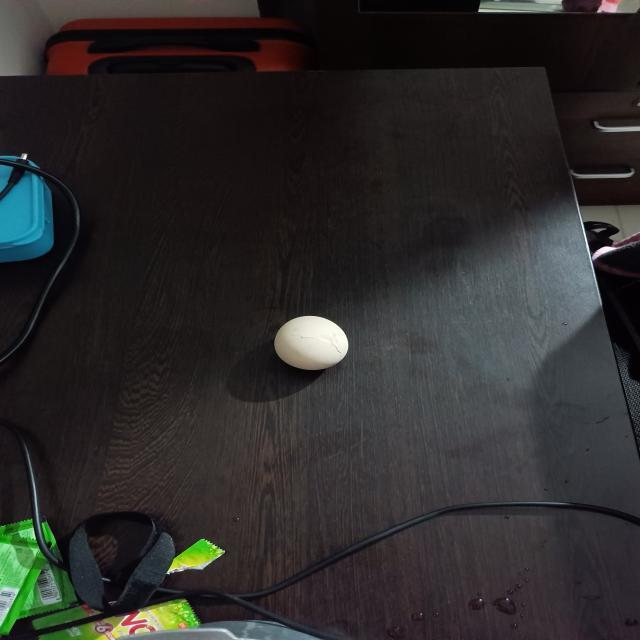biodegradable: (274, 316, 349, 372)
